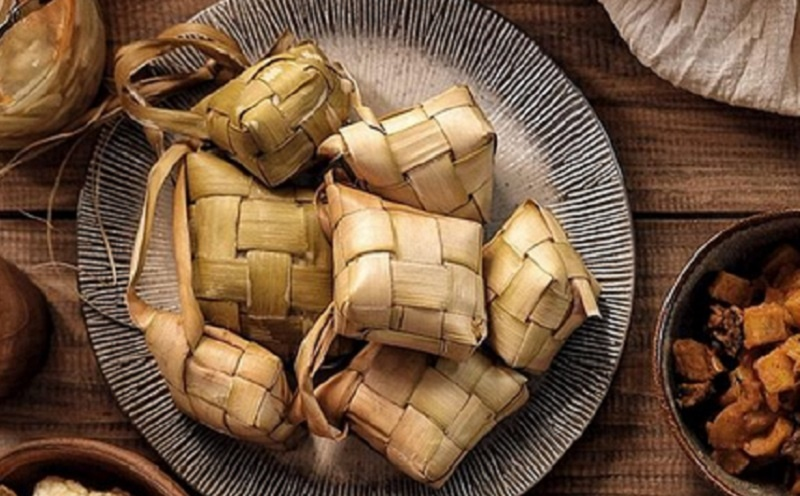ketupat: (323, 181, 489, 360), (481, 203, 599, 374)
